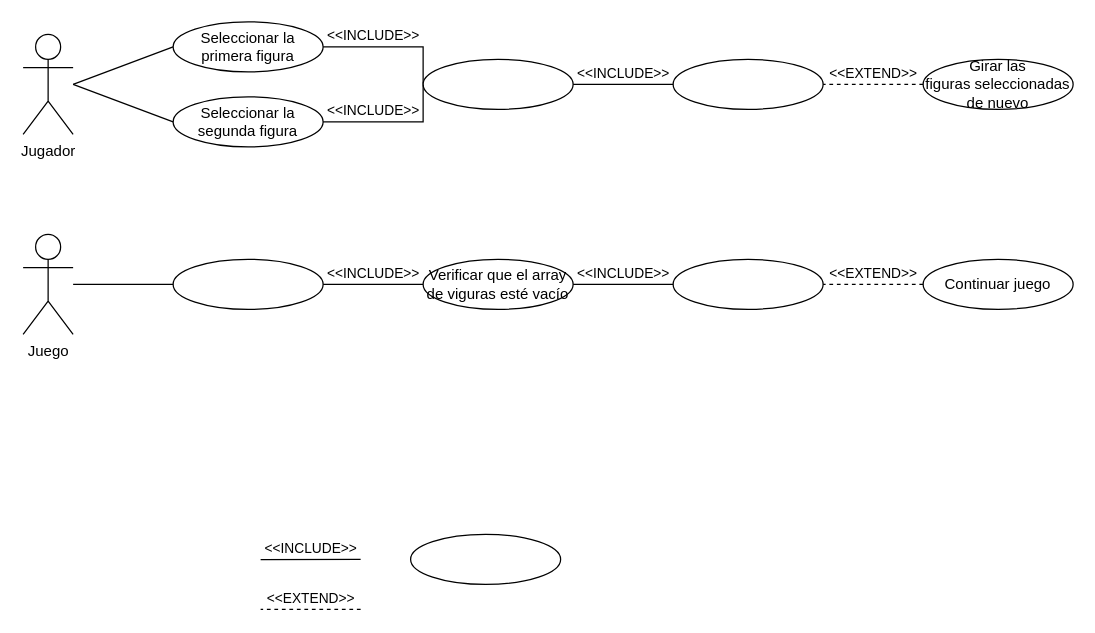
Some shapes in this 1095 by 633 pixel diagram are drawn without their labels. Each missing label, with the centre of its shape:
Descartar las figuras acertadas: pixel 247 283
Mostrar pantalla de juego finalizado: pixel 747 283
Se giran las figuras seleccionadas: pixel 497 83
Verificar que las fichas sean iguales: pixel 747 83
